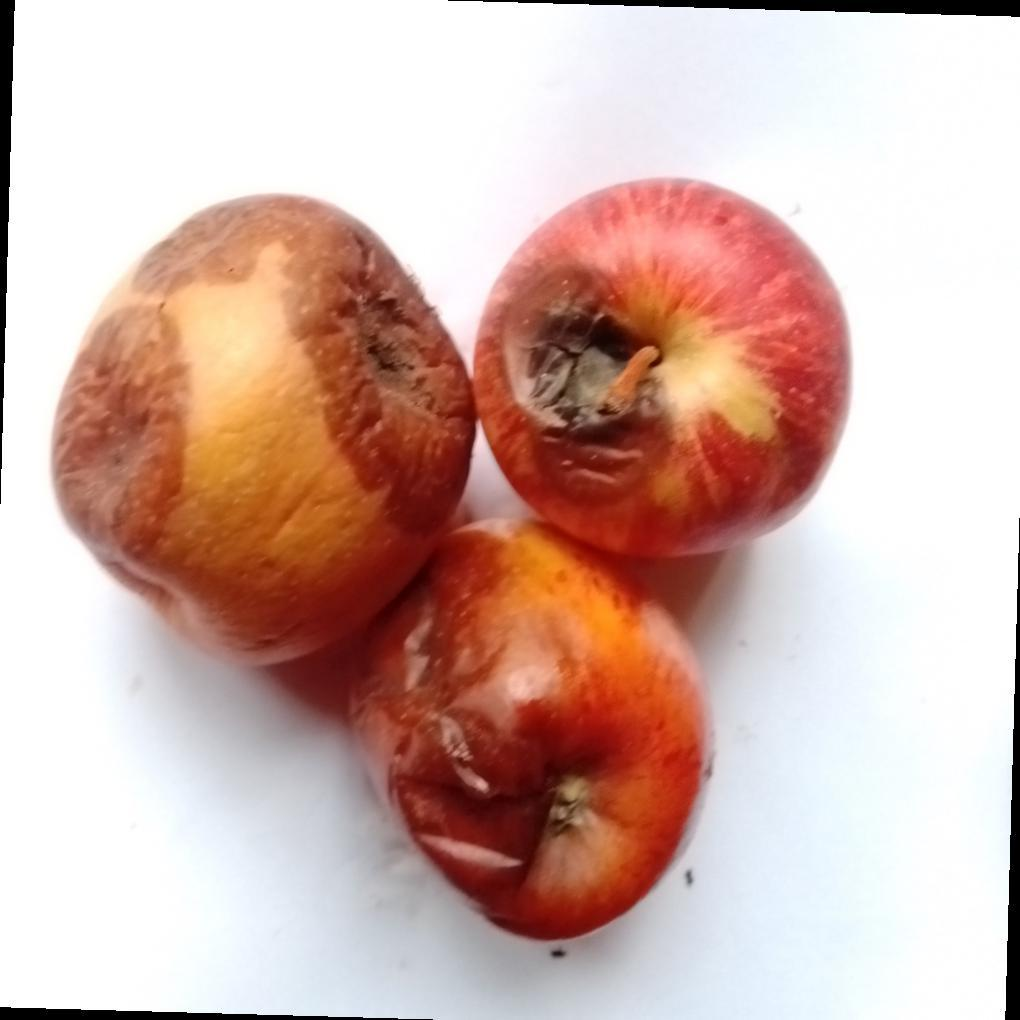FreshOrange: (48, 178, 853, 951)
